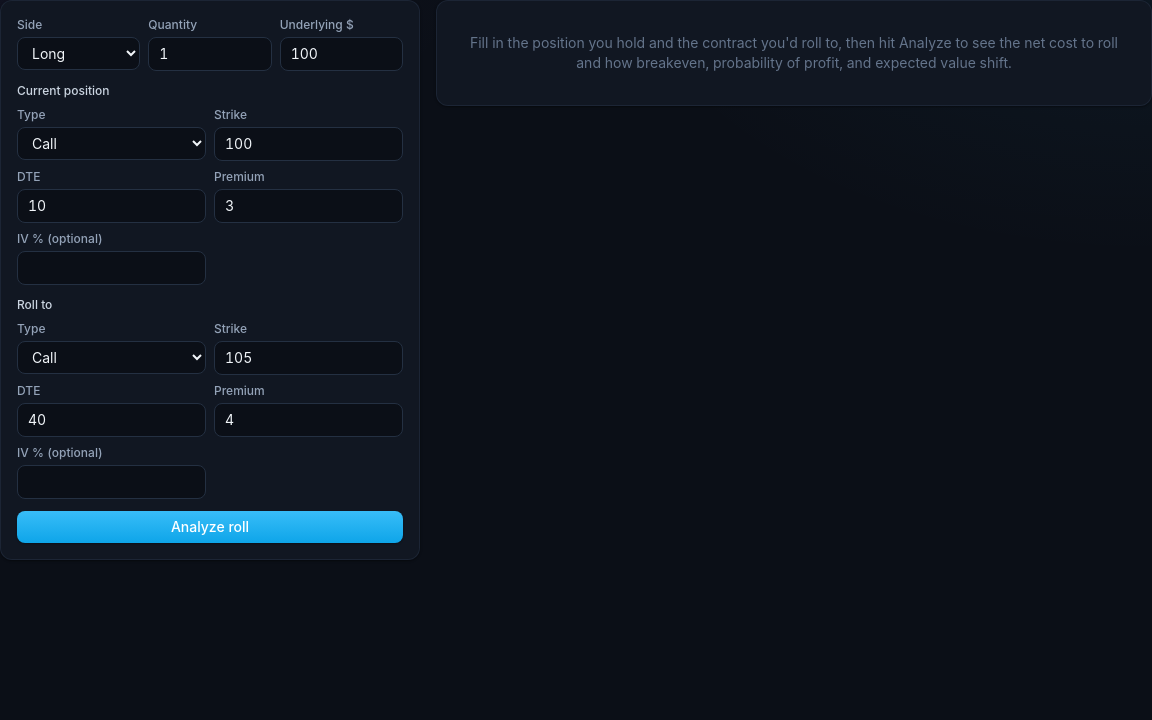
Test: RollAnalyzer › shows a credit (not debit) when netCost is positive
Click the button "Analyze roll": (210, 527) [17,511,403,543]
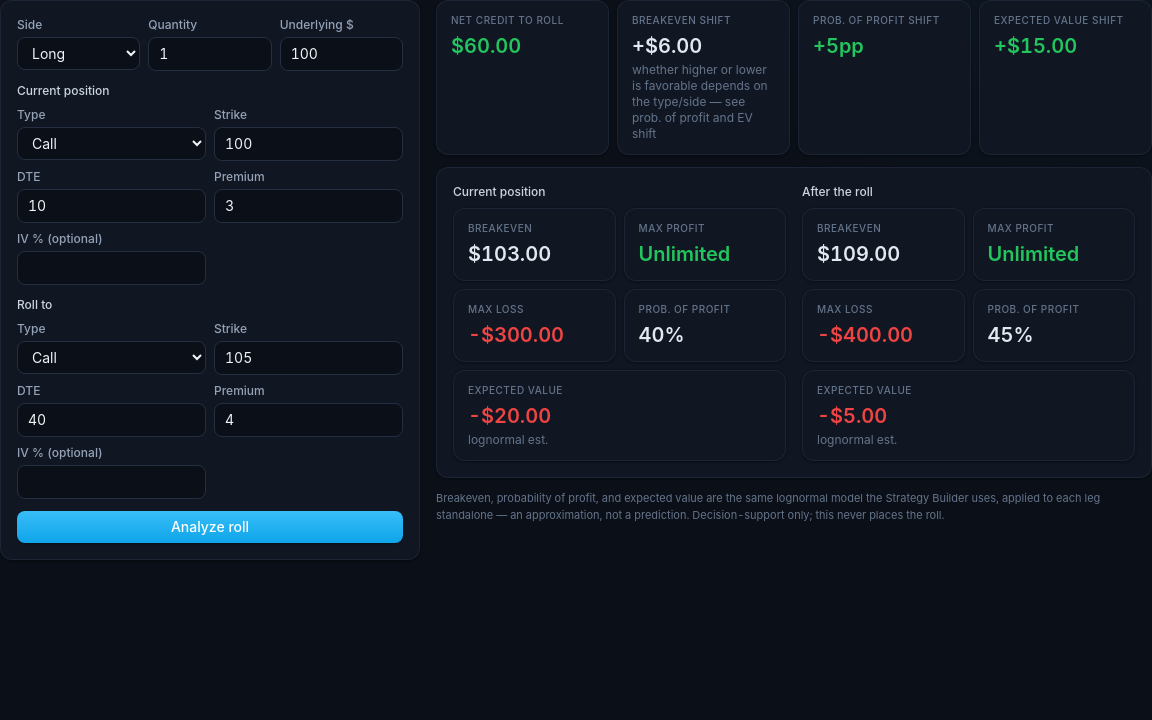
Now the text "Net credit to roll" is shown, box [451,14,564,26]
